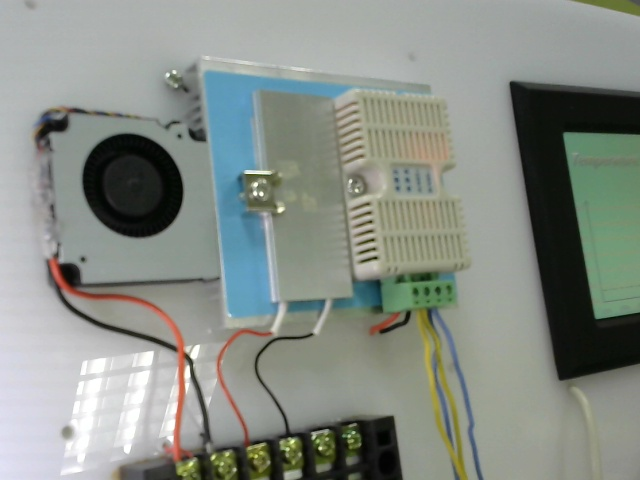fan: (31, 100, 213, 304)
heater: (257, 86, 351, 317)
termperature: (343, 86, 484, 279)
